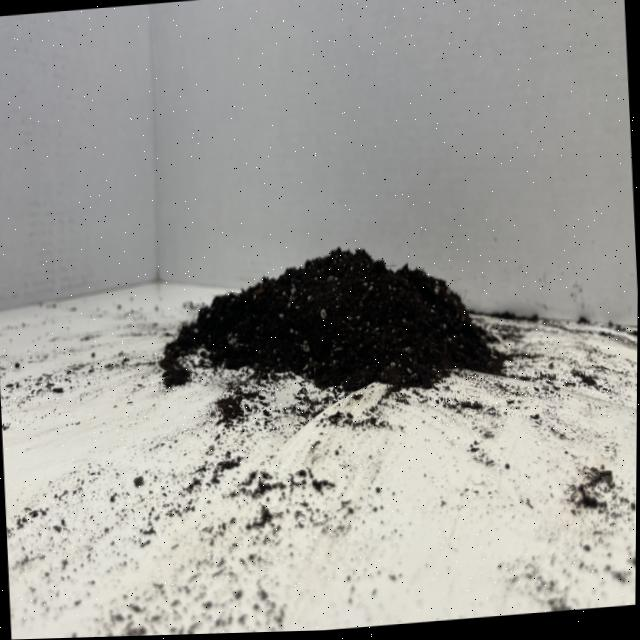soil: (152, 230, 509, 415)
